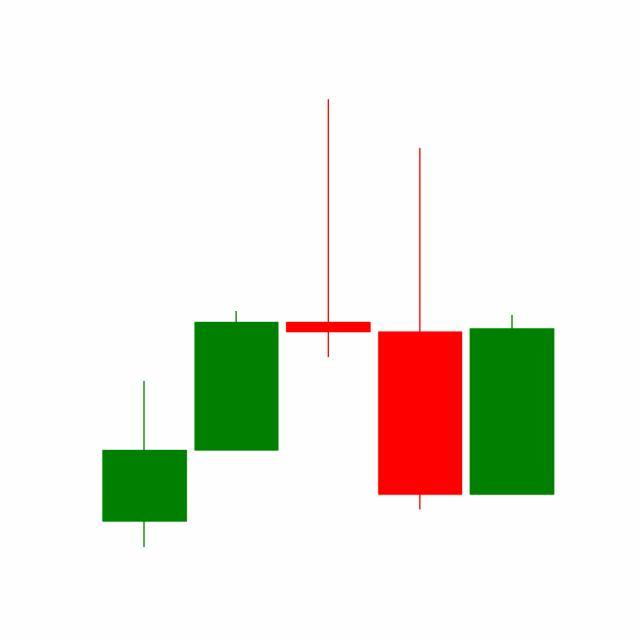Marubozu: (466, 313, 559, 498)
